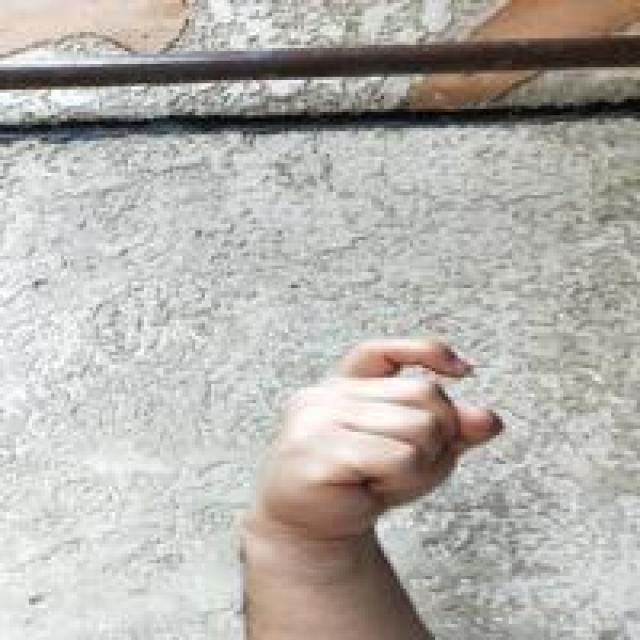X: (232, 334, 510, 552)
